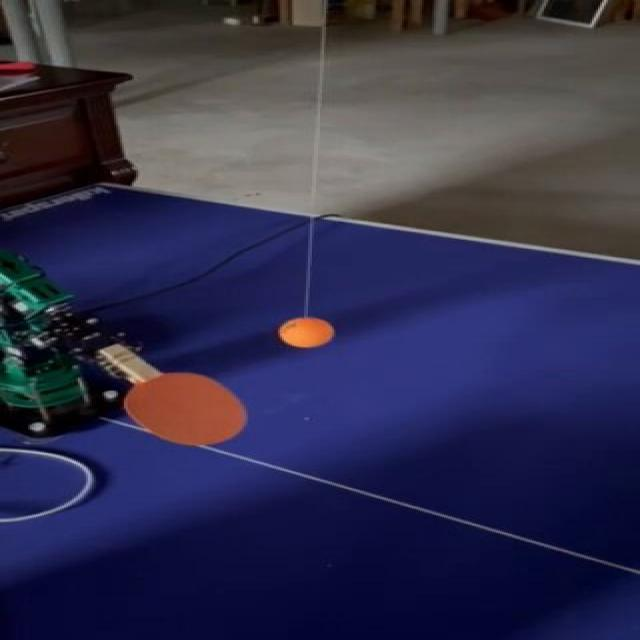ping-pong-ball: (278, 318, 332, 346)
